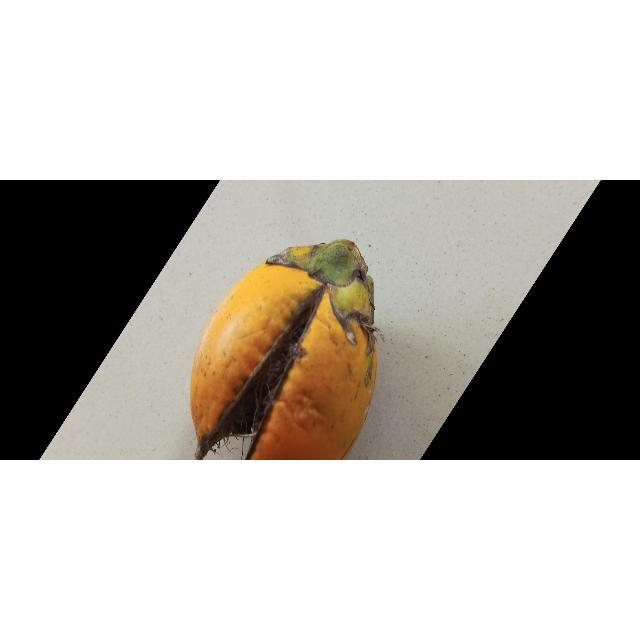damaged: (189, 240, 379, 461)
